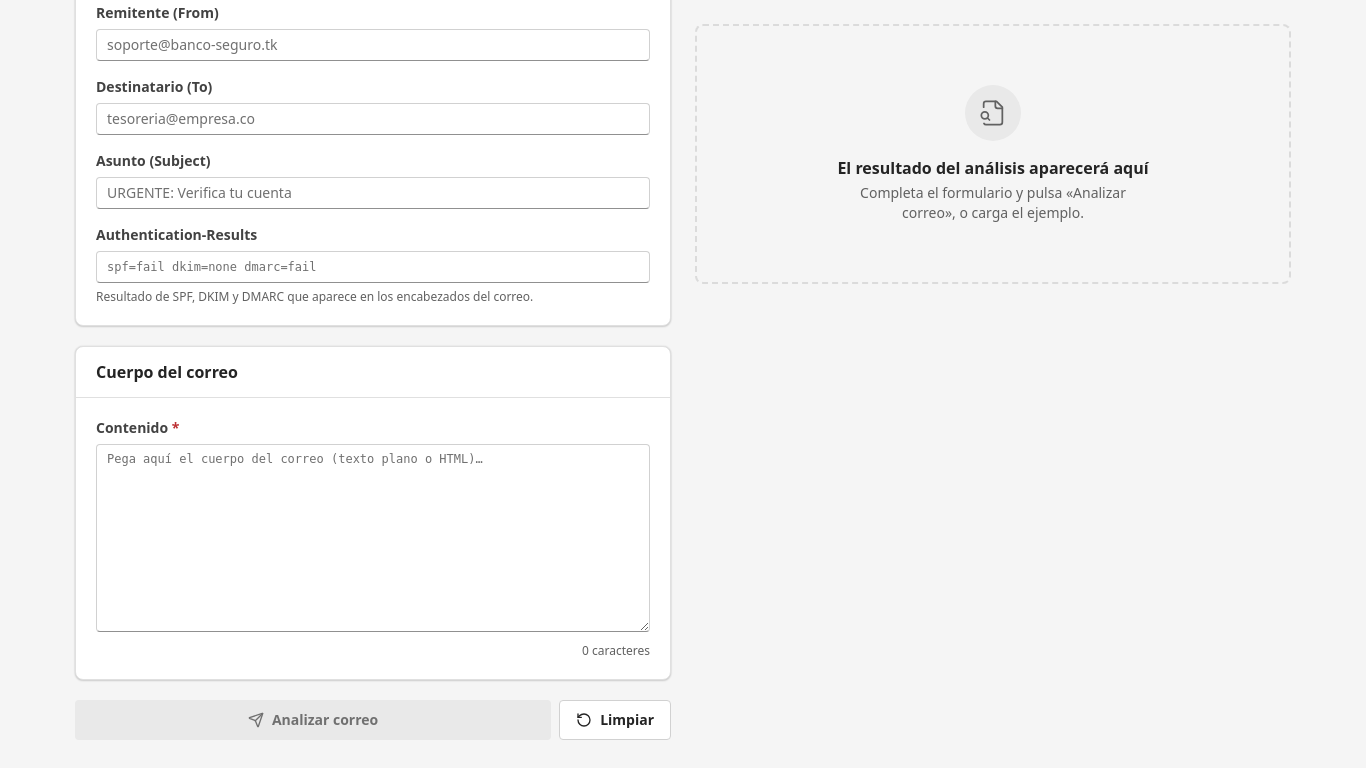
Scenario: AnalyzePage — botón limpiar › limpia el formulario y el resultado
(page scrolled)
Type "Texto de prueba" into the text box with placeholder "Pega aquí el cuerpo del correo (texto plano o HTML)…" at (373, 538), box [96,444,650,632]
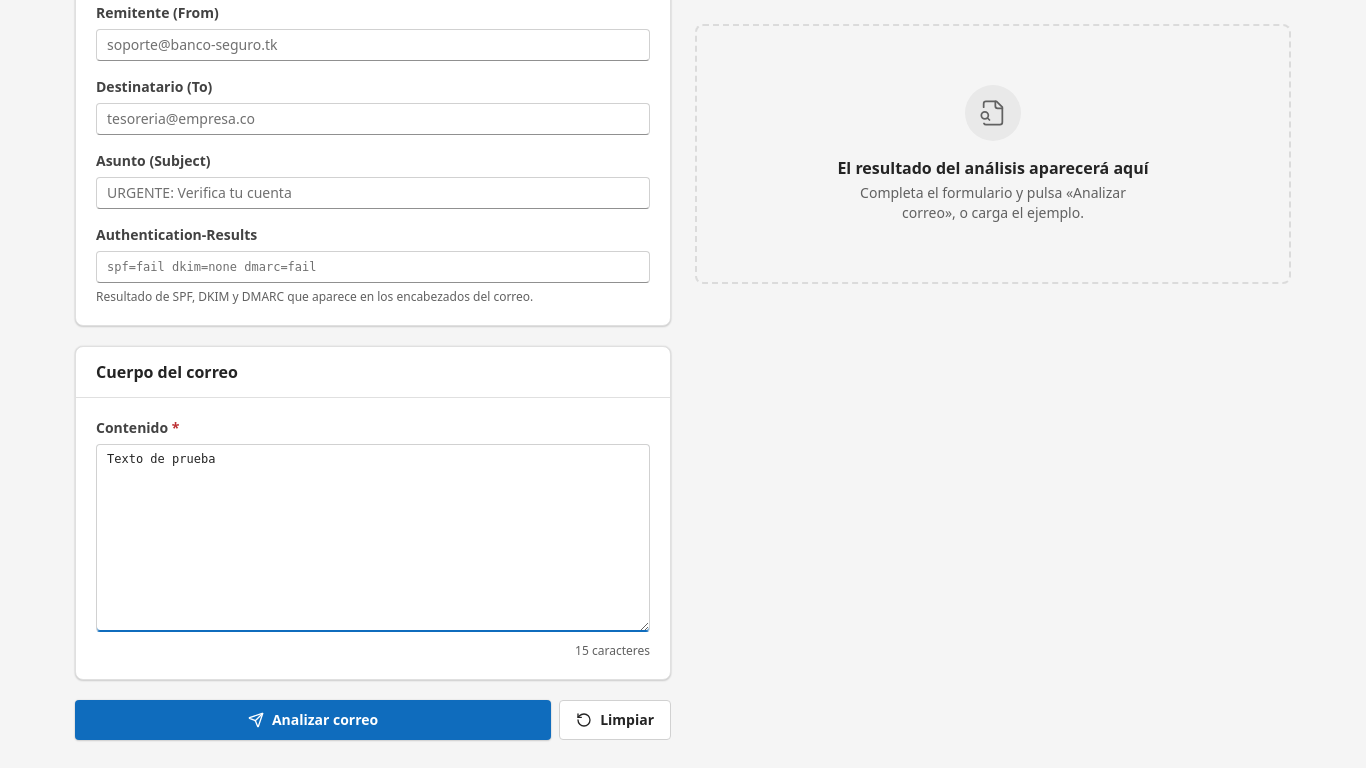
Click the button "Analizar correo" at (313, 720), box [75,700,551,740]
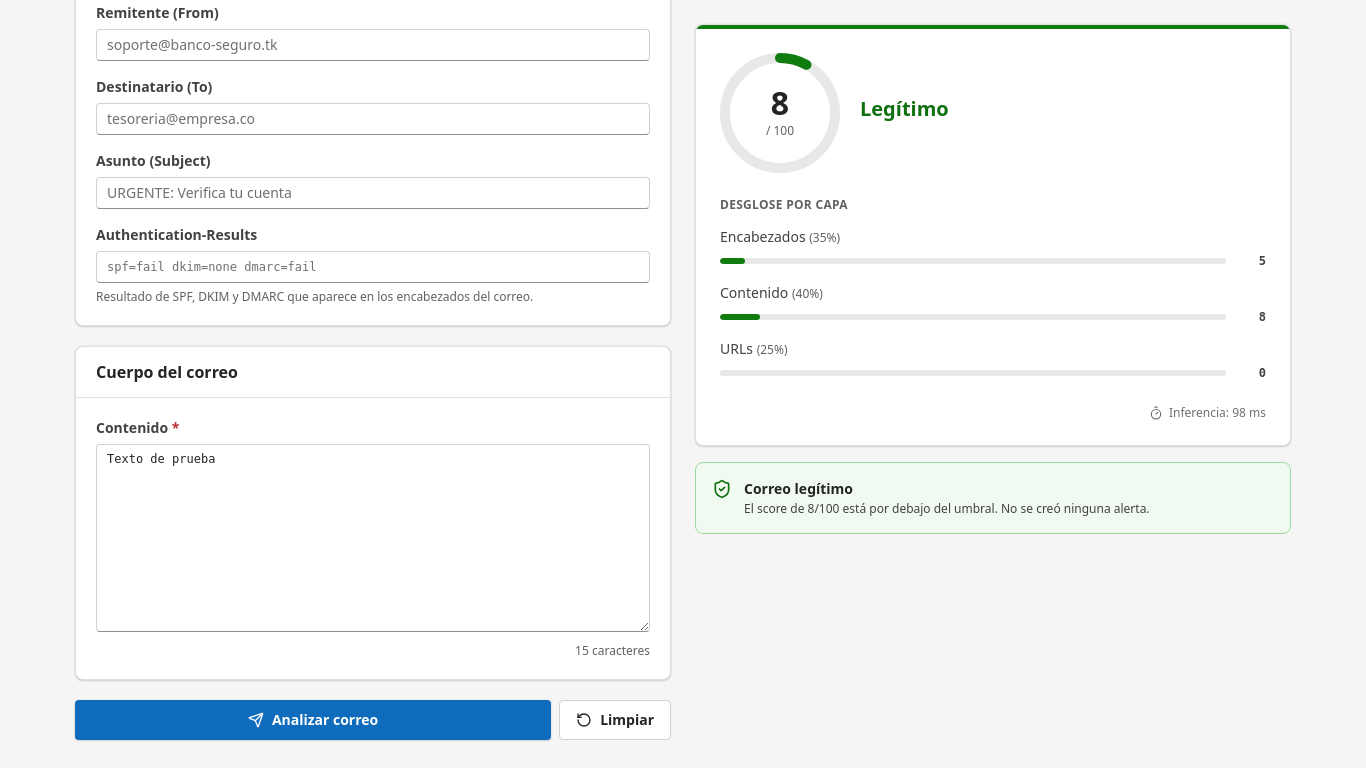
Click the button "Limpiar" at (615, 720), box [559,700,671,740]
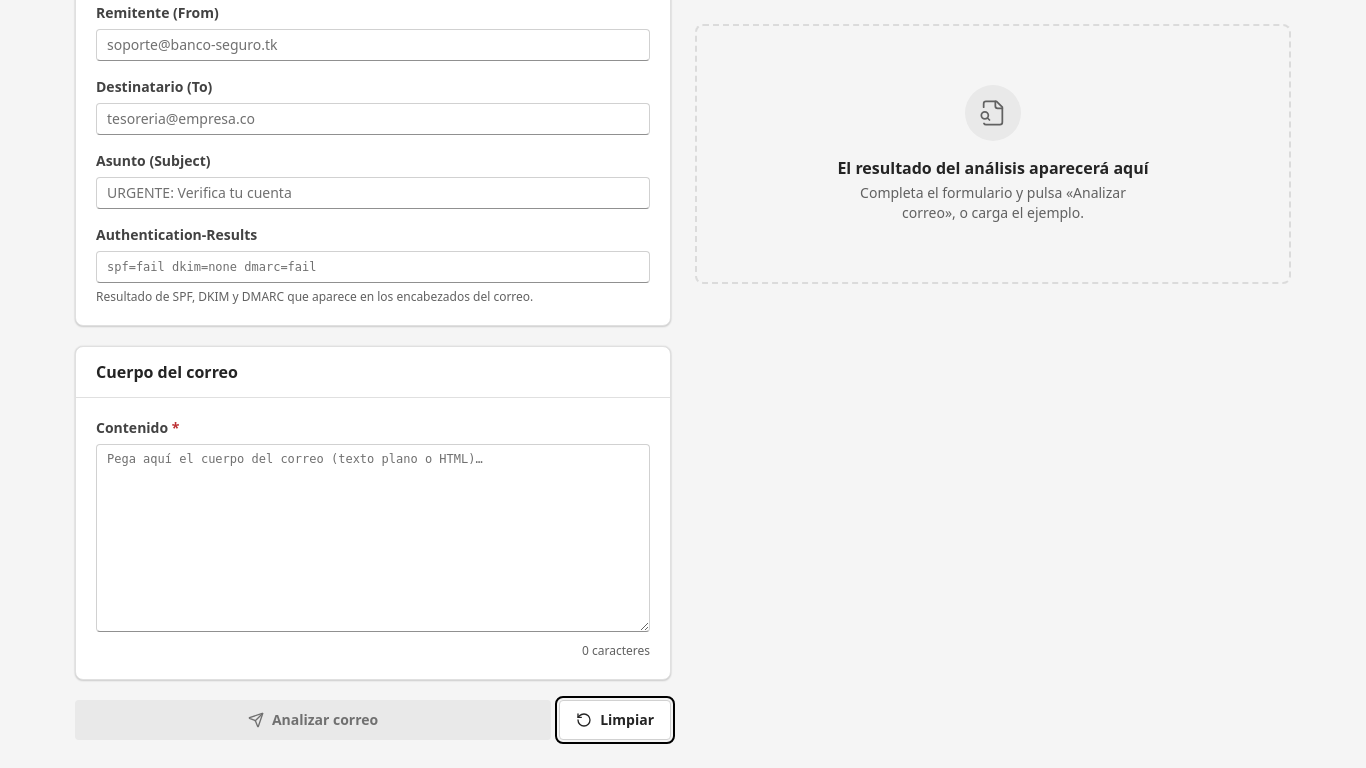
expect the text box with placeholder "Pega aquí el cuerpo del correo (texto plano o HTML)…" is empty: met, box [96,444,650,632]
expect the text "El resultado del análisis aparecerá aquí" is shown: met, box [837,157,1149,179]
